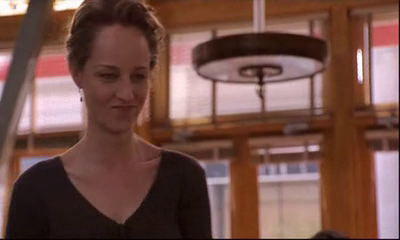face: (88, 46, 149, 131)
mcu: (1, 1, 398, 238)
person: (4, 1, 213, 238)
